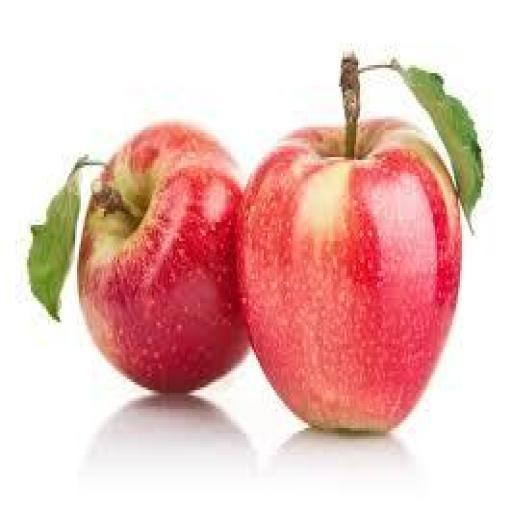apple: (237, 120, 461, 430), (79, 122, 248, 392)
